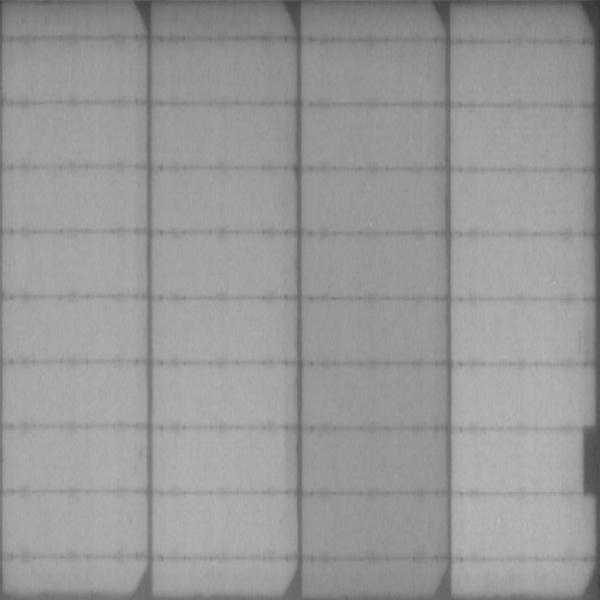black_border: (578, 421, 600, 499)
